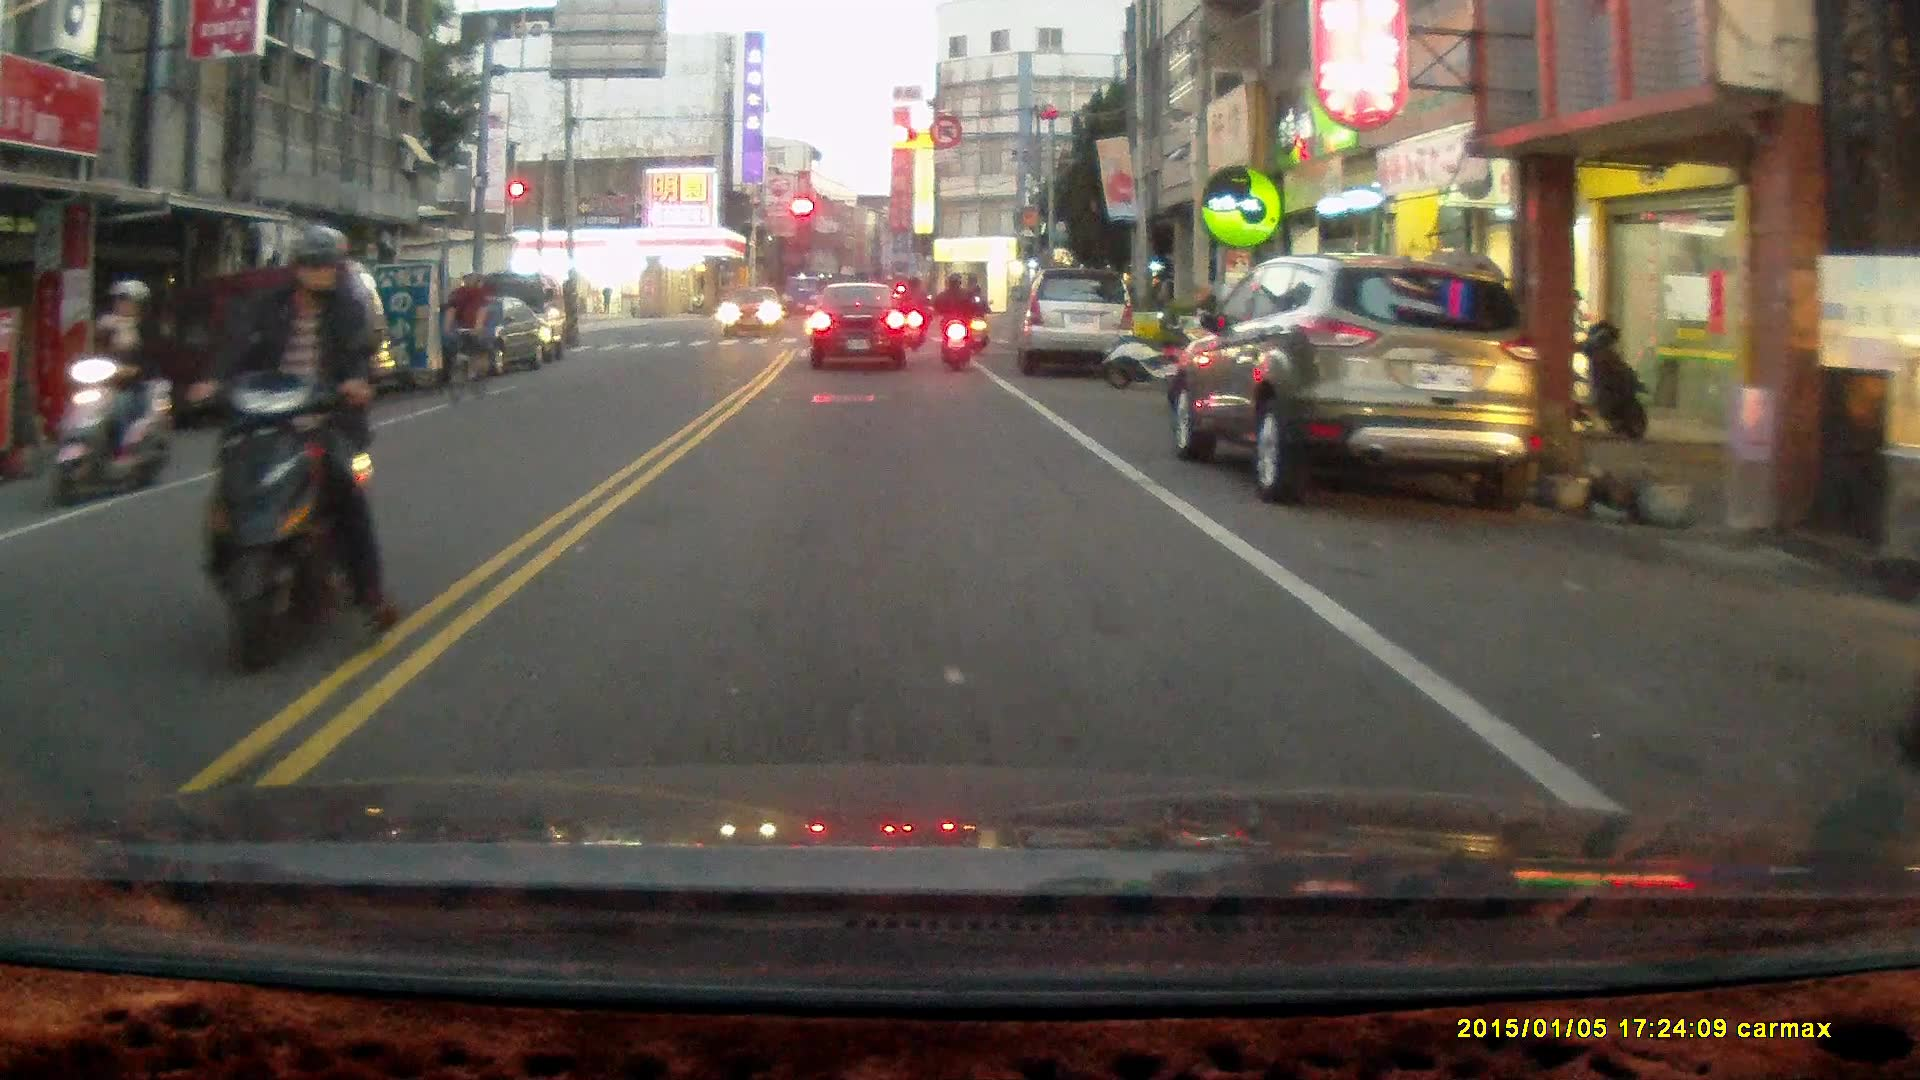rider: (176, 222, 398, 673), (49, 279, 175, 506), (442, 269, 490, 407), (929, 271, 976, 376), (896, 274, 929, 353), (962, 283, 990, 355)
vehicle: (1173, 254, 1537, 517), (1023, 270, 1140, 381), (423, 297, 551, 381), (812, 282, 914, 369), (715, 281, 781, 336)
